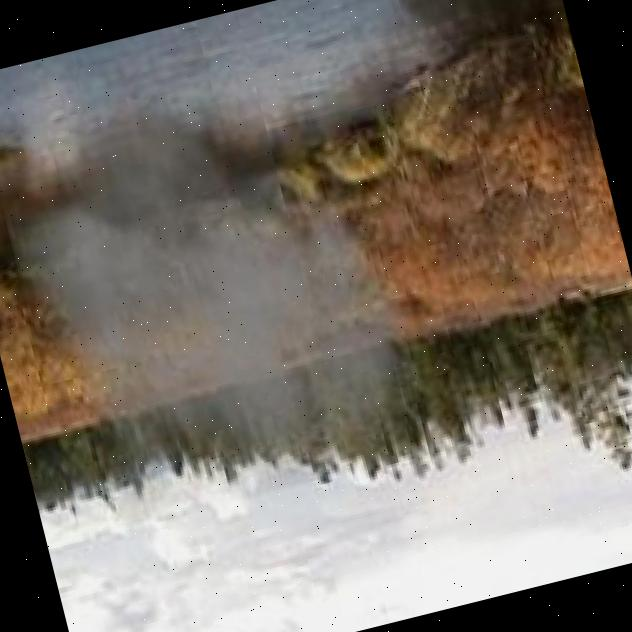smoke: (0, 56, 440, 538)
